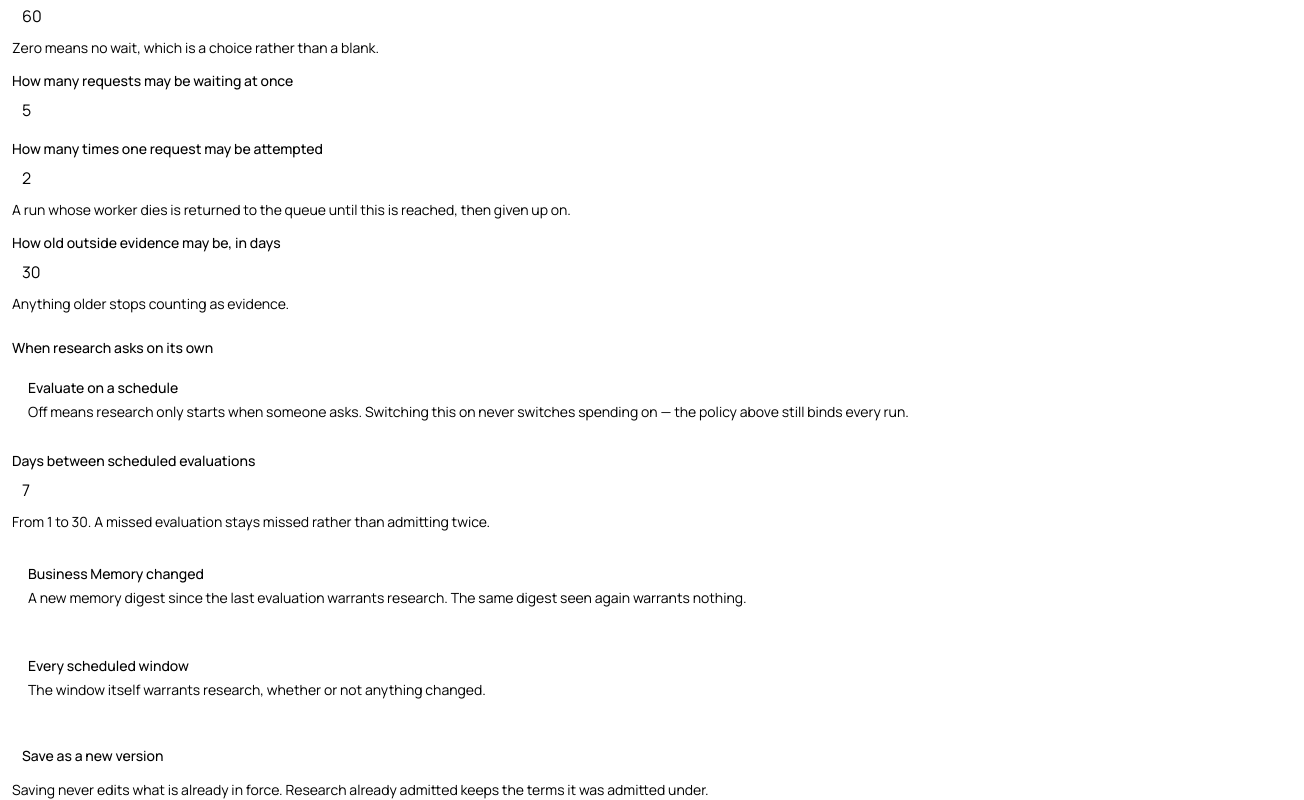
Test: when research asks on its own › says plainly when the limits saved but the cadence did not
This screenshot has width=1304, height=800.
(page scrolled)
Click the button "Save as a new version": (93, 756) [12,740,173,772]
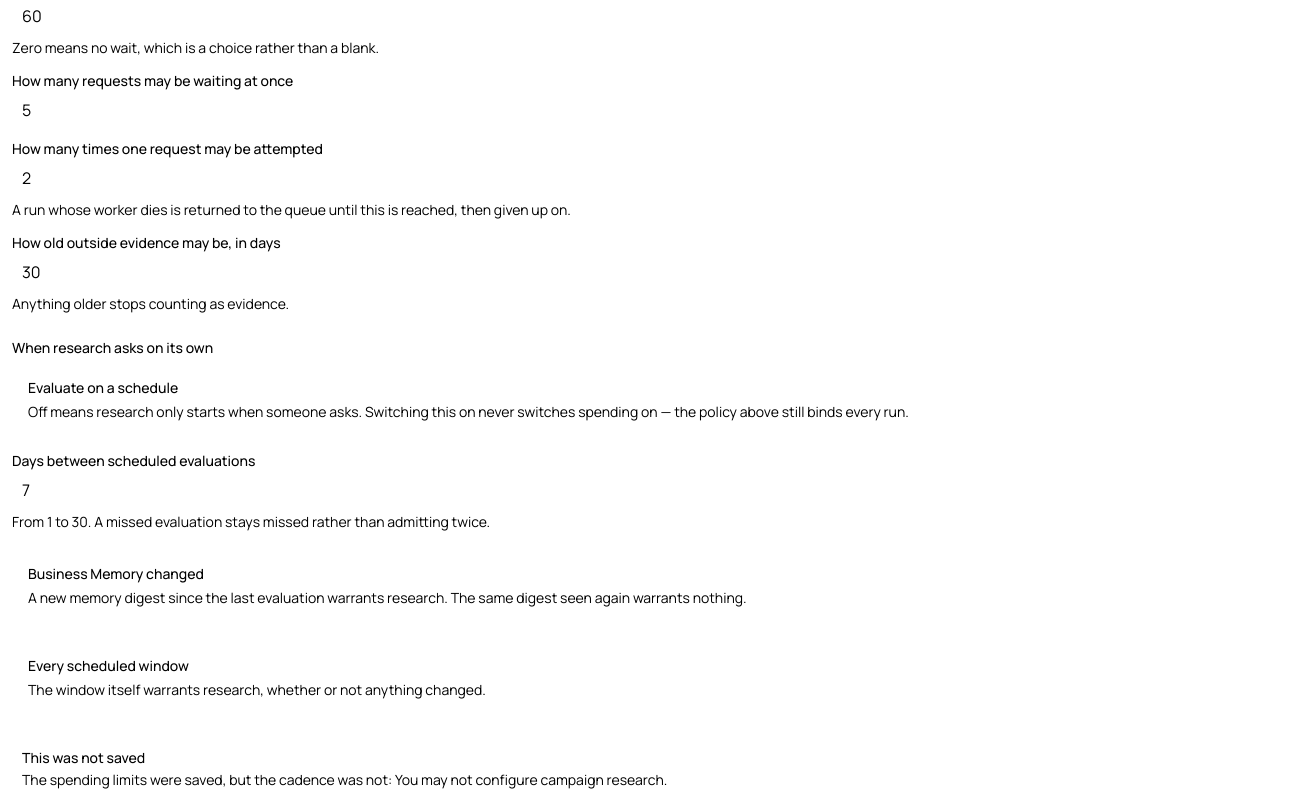
Result: the message shows "spending limits were saved, but the cadence was not" at [22,770,667,789]
